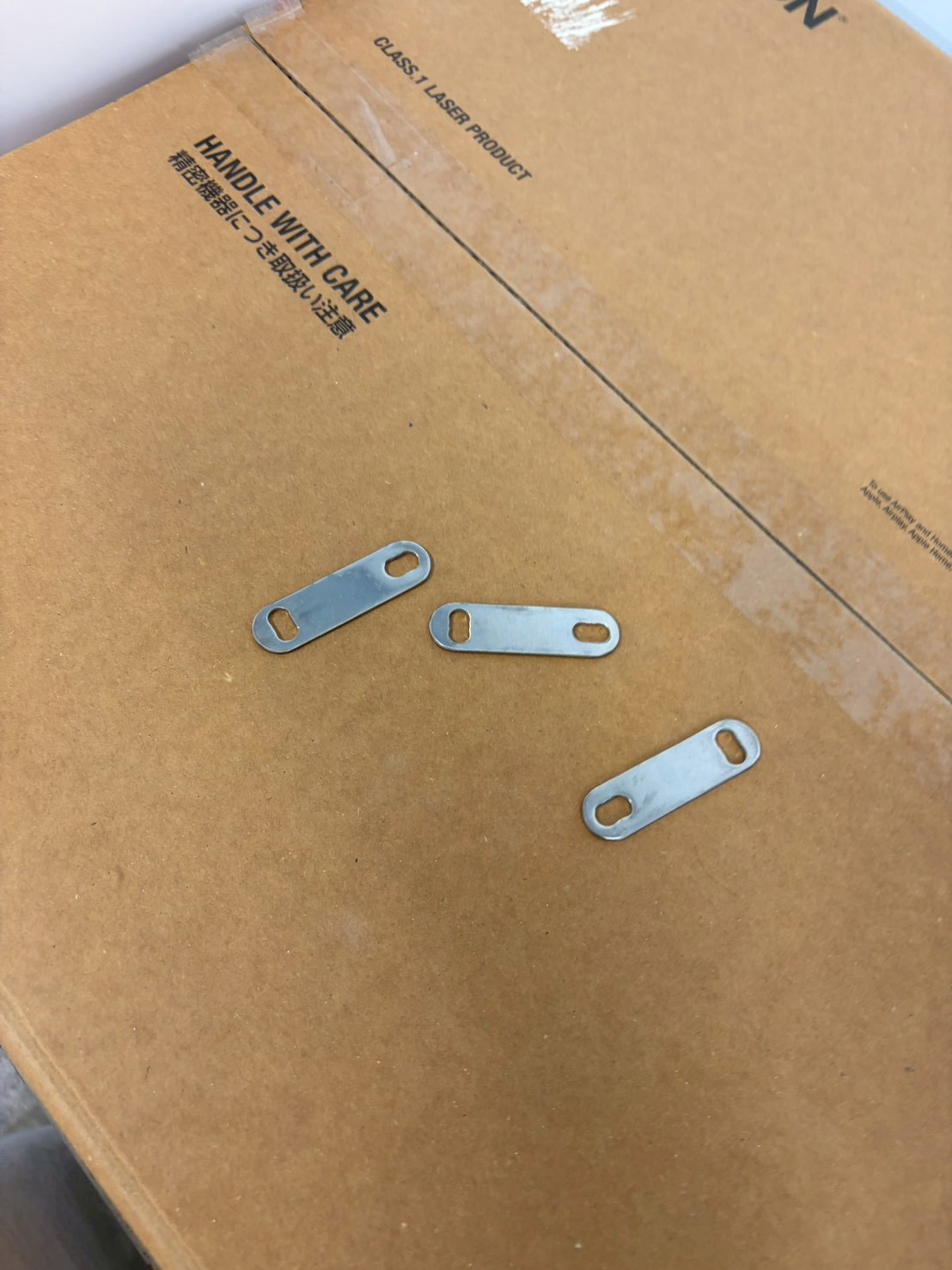Fe: (744, 704, 808, 898), (622, 611, 672, 805), (416, 529, 465, 723)
